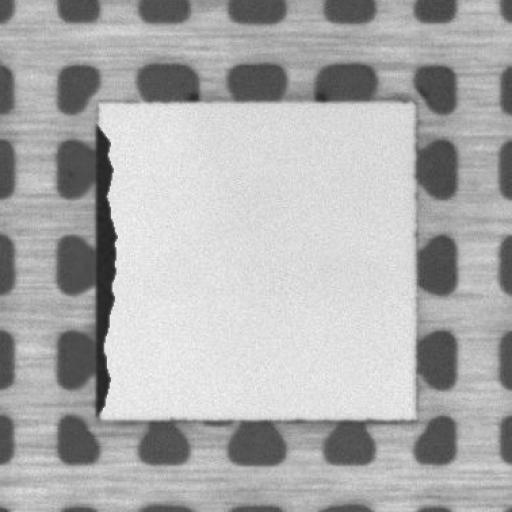DIE_BROKEN: (91, 122, 119, 418)
